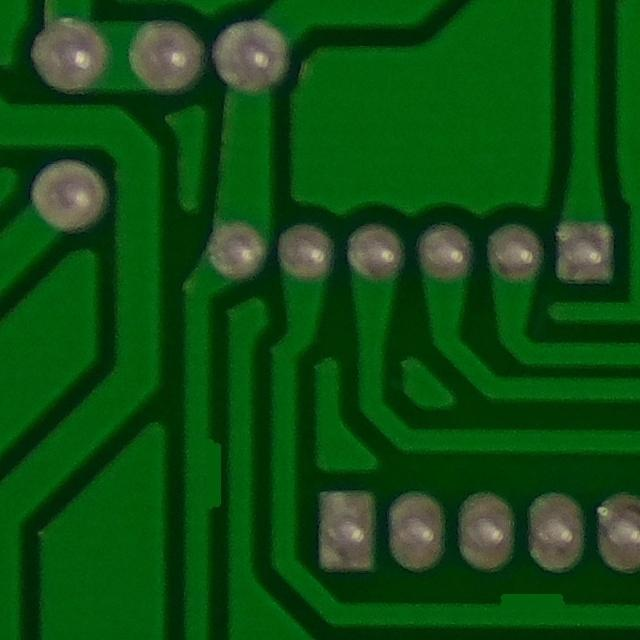spur: (171, 422, 237, 525), (485, 582, 580, 632)
